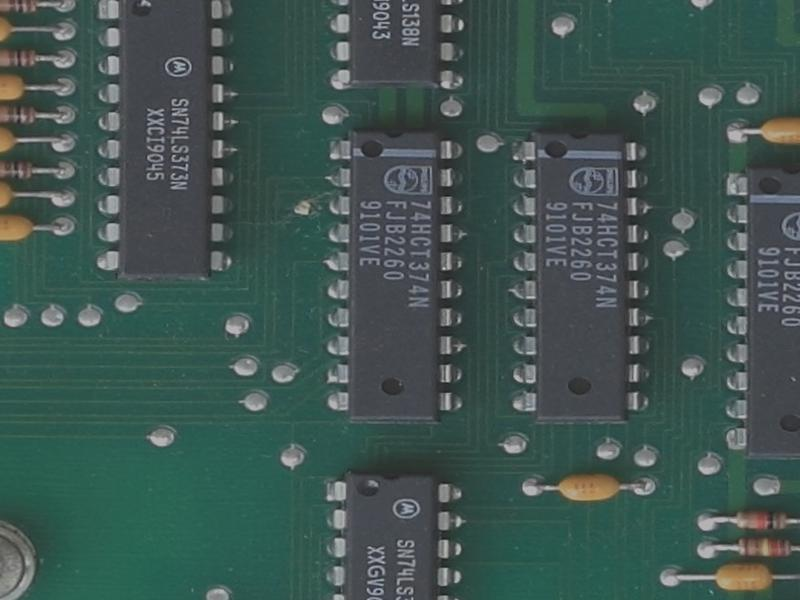Resistor: (731, 532, 800, 561), (728, 508, 792, 533), (1, 48, 40, 74), (1, 104, 45, 127), (1, 161, 37, 182), (1, 1, 45, 18)
